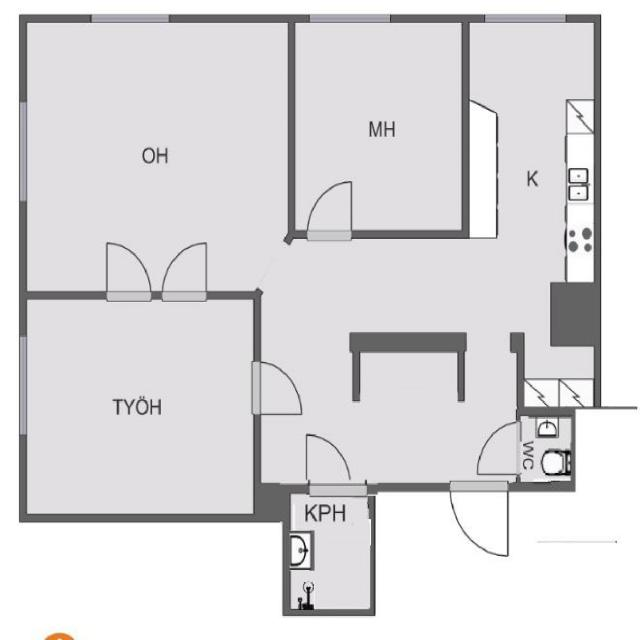door: (450, 484, 507, 560), (106, 237, 151, 299), (162, 236, 206, 298), (306, 180, 350, 240), (254, 362, 304, 413), (474, 422, 524, 473), (309, 434, 350, 492)
